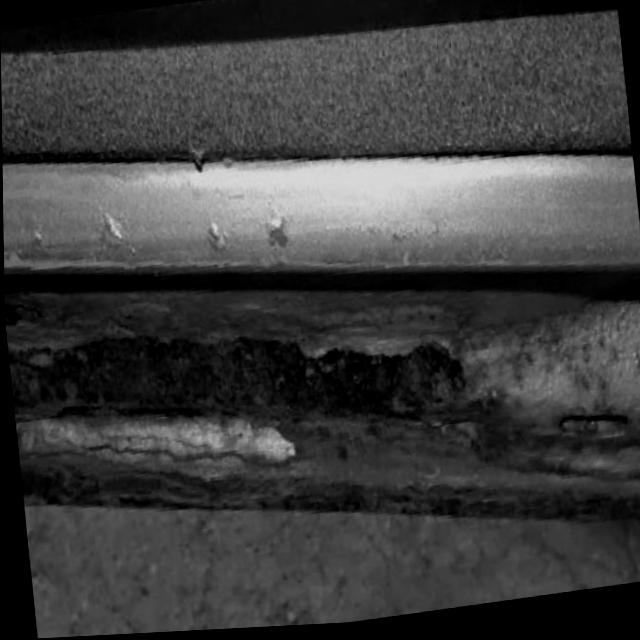Rust: (4, 293, 640, 515), (93, 211, 132, 252), (201, 217, 230, 253)
